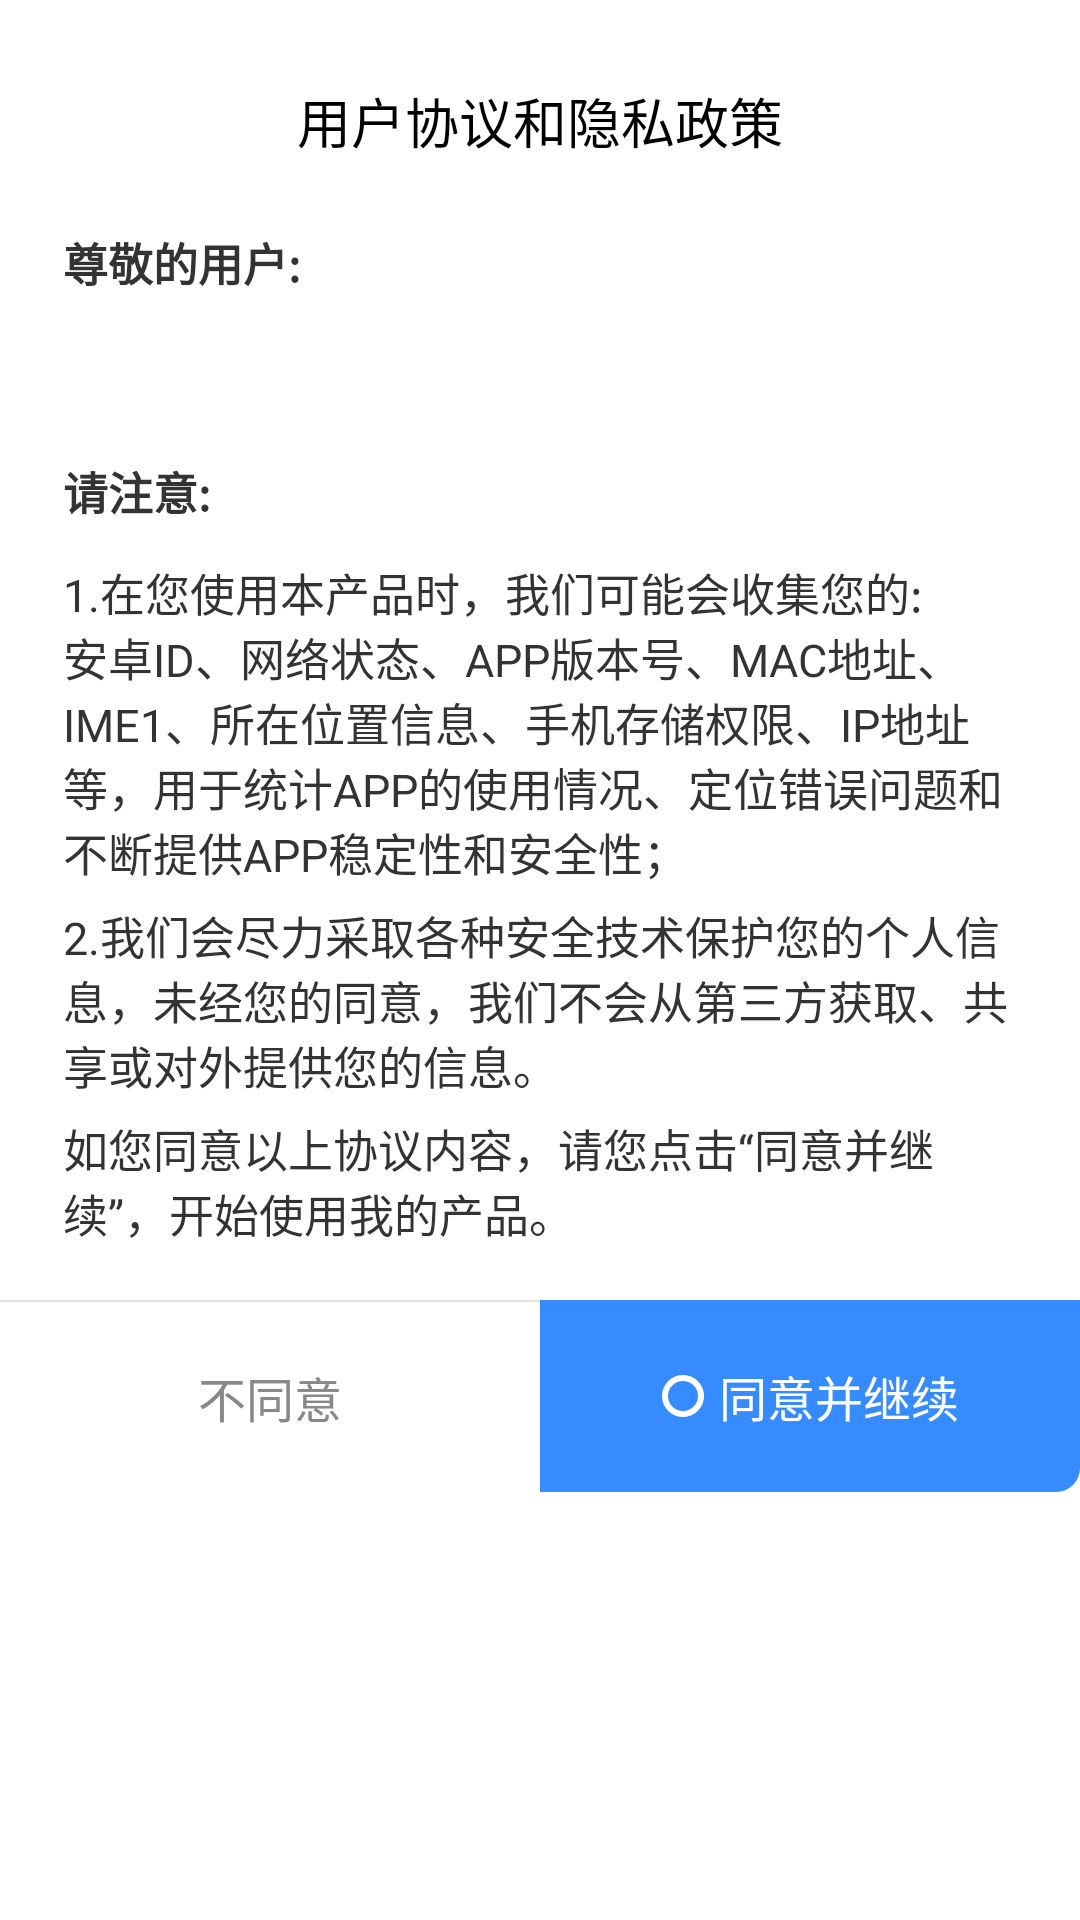

Named icons in this screenshot (1080px x 1920px) and their bounding boxes, (x1, y1, x2, y2):
circle: (662, 1375, 704, 1417)
